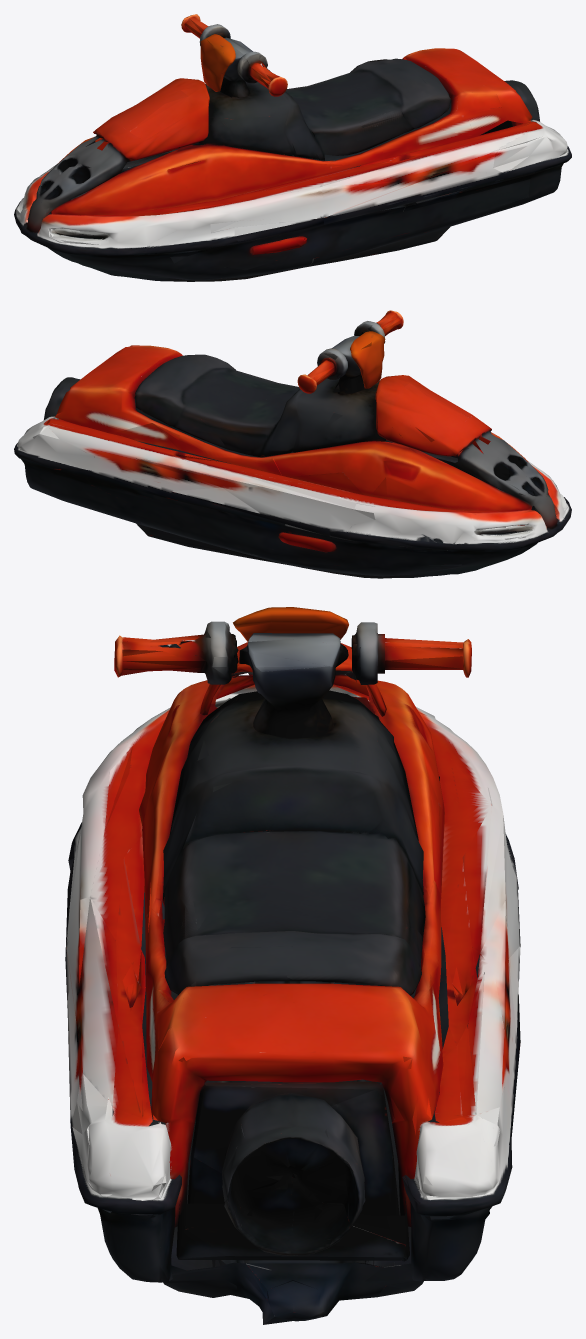
File: Jetski_Red_7k.fbx
3 views of the same model, one above another, from view 1: azimuth 30°, elevation 25°; view 2: azimuth 150°, elevation 25°; view 3: azimuth 270°, elevation 25° (orthographic). The views are drawn at different scales.
Visible parts, largest first — view 1: output_unwrapped; view 2: output_unwrapped; view 3: output_unwrapped.
Boxes of the visible parts, bbox=[...] form: output_unwrapped: bbox=[14, 14, 571, 281]; output_unwrapped: bbox=[14, 310, 571, 578]; output_unwrapped: bbox=[65, 607, 520, 1324].
Bounding box in the file's own units: 198 × 86.54 × 78.07.
1 material, 1 textured.
